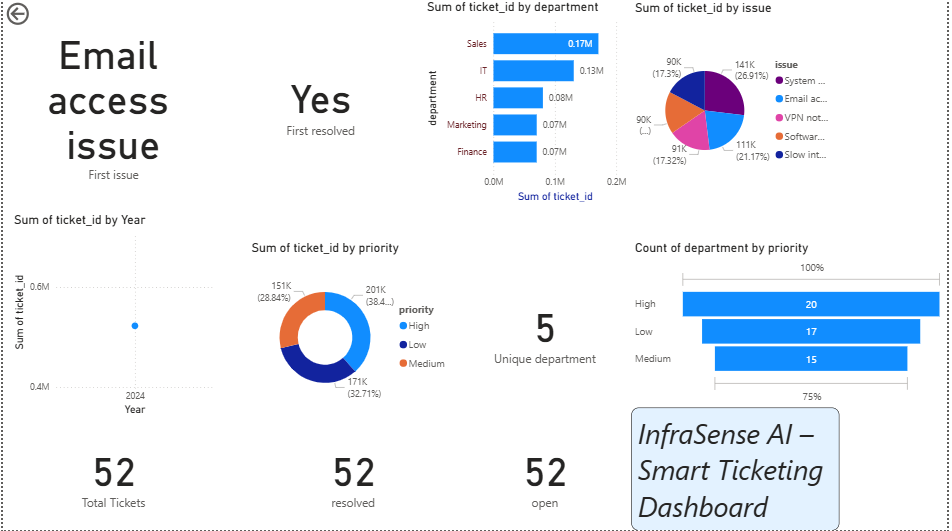

The dashboard page shown, as its layout file describes it:
{"tool":"powerbi","page":{"name":"Page 1","canvas":[1280,720],"ordinal":0},"visuals":[{"type":"card","fields":{"Values":["Min(infrasense_ai helpdesk_tickets.issue)"]},"box":[10,0,280,280],"z":0},{"type":"actionButton","box":[0,0,100,40],"z":1000},{"type":"card","fields":{"Values":["Min(infrasense_ai helpdesk_tickets.resolved)"]},"box":[289,0,281.7,279.9],"z":2000},{"type":"clusteredBarChart","fields":{"Y":["Sum(infrasense_ai helpdesk_tickets.ticket_id)"],"Category":["infrasense_ai helpdesk_tickets.department"]},"box":[570.8,0,281.7,279.9],"z":3000},{"type":"pieChart","fields":{"Category":["infrasense_ai helpdesk_tickets.issue"],"Y":["Sum(infrasense_ai helpdesk_tickets.ticket_id)"]},"box":[852.5,1.8,281.7,279.9],"z":4000},{"type":"lineChart","fields":{"Y":["Sum(infrasense_ai helpdesk_tickets.ticket_id)"],"Category":["infrasense_ai helpdesk_tickets.timestamp.Variation.Date Hierarchy.Year","infrasense_ai helpdesk_tickets.timestamp.Variation.Date Hierarchy.Month"]},"box":[10,290,280,280],"z":5000},{"type":"donutChart","fields":{"Category":["infrasense_ai helpdesk_tickets.priority"],"Y":["Sum(infrasense_ai helpdesk_tickets.ticket_id)"]},"box":[332.9,327.5,281.7,243.3],"z":6000},{"type":"card","fields":{"Values":["CountNonNull(infrasense_ai helpdesk_tickets.ticket_id)"]},"box":[10,570,280,150],"z":7000},{"type":"card","fields":{"Values":["CountNonNull(infrasense_ai helpdesk_tickets.resolved)"]},"box":[333,570,282,150],"z":8000},{"type":"card","fields":{"Values":["Count(infrasense_ai helpdesk_tickets.department)"]},"box":[615,327,238,243],"z":9000},{"type":"card","fields":{"Values":["CountNonNull(infrasense_ai helpdesk_tickets.resolved)"]},"box":[615,570,238,150],"z":10000},{"type":"funnel","fields":{"Category":["infrasense_ai helpdesk_tickets.priority"],"Y":["CountNonNull(infrasense_ai helpdesk_tickets.department)"]},"box":[852.5,327.5,428.1,226.8],"z":11000},{"type":"textbox","box":[852.5,554.3,281.7,166.5],"z":12000}]}

Visuals, with their boxes in screenshot pixels (x1, y1, x2, y2), scaled from the page's 1280x720 canvas onto the 952x531 screenshot:
card - Min(infrasense_ai helpdesk_tickets.issue): bbox(7, 0, 216, 206)
actionButton: bbox(0, 0, 74, 30)
card - Min(infrasense_ai helpdesk_tickets.resolved): bbox(215, 0, 424, 206)
clusteredBarChart - Sum(infrasense_ai helpdesk_tickets.ticket_id) x infrasense_ai helpdesk_tickets.department: bbox(425, 0, 634, 206)
pieChart - infrasense_ai helpdesk_tickets.issue x Sum(infrasense_ai helpdesk_tickets.ticket_id): bbox(634, 1, 844, 208)
lineChart - Sum(infrasense_ai helpdesk_tickets.ticket_id) x infrasense_ai helpdesk_tickets.timestamp.Variation.Date Hierarchy.Year: bbox(7, 214, 216, 420)
donutChart - infrasense_ai helpdesk_tickets.priority x Sum(infrasense_ai helpdesk_tickets.ticket_id): bbox(248, 242, 457, 421)
card - CountNonNull(infrasense_ai helpdesk_tickets.ticket_id): bbox(7, 420, 216, 530)
card - CountNonNull(infrasense_ai helpdesk_tickets.resolved): bbox(248, 420, 457, 530)
card - Count(infrasense_ai helpdesk_tickets.department): bbox(457, 241, 634, 420)
card - CountNonNull(infrasense_ai helpdesk_tickets.resolved): bbox(457, 420, 634, 530)
funnel - infrasense_ai helpdesk_tickets.priority x CountNonNull(infrasense_ai helpdesk_tickets.department): bbox(634, 242, 951, 409)
textbox: bbox(634, 409, 844, 530)
